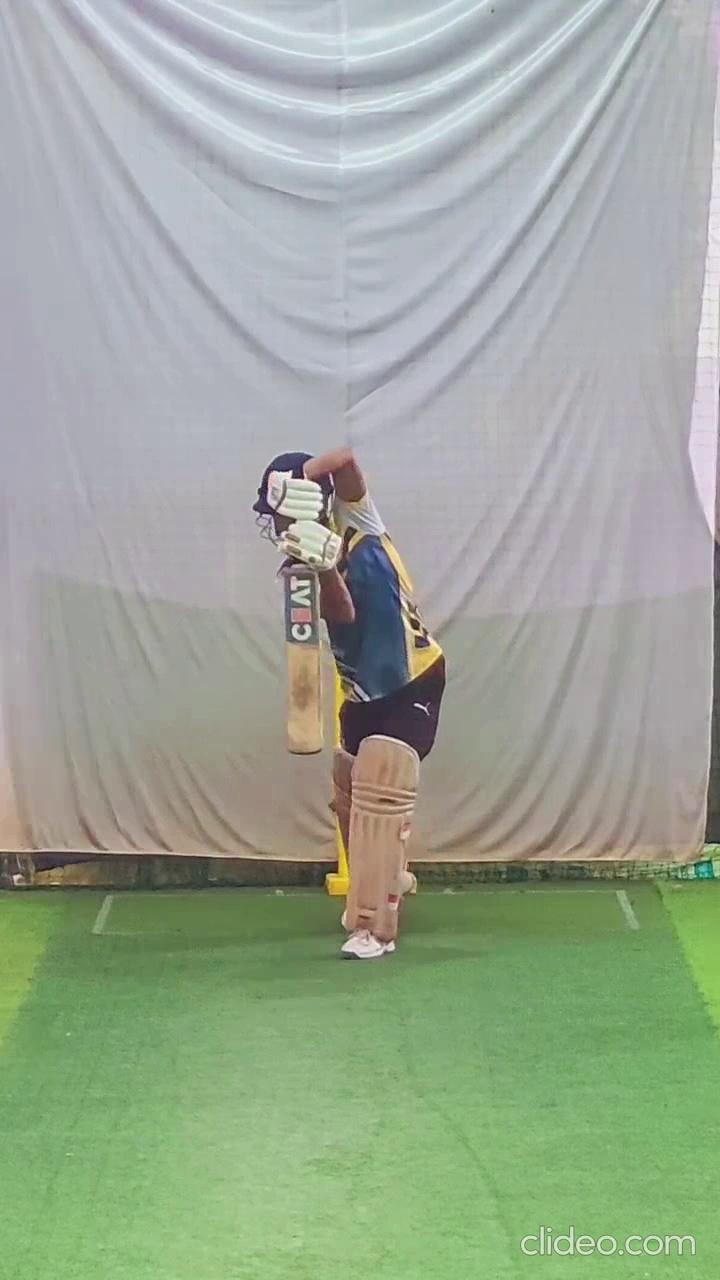bat: (280, 565, 326, 758)
